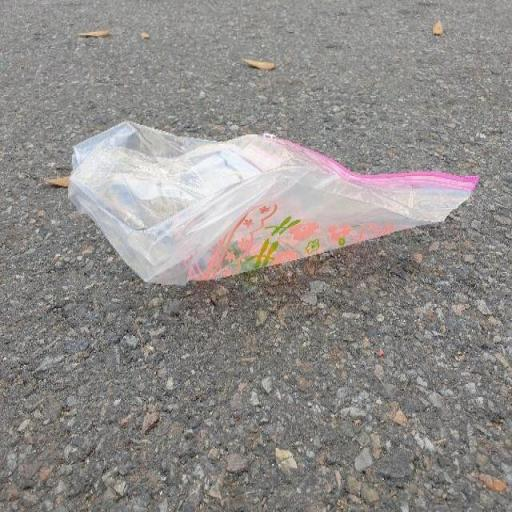plastic-bag: (66, 117, 480, 289)
